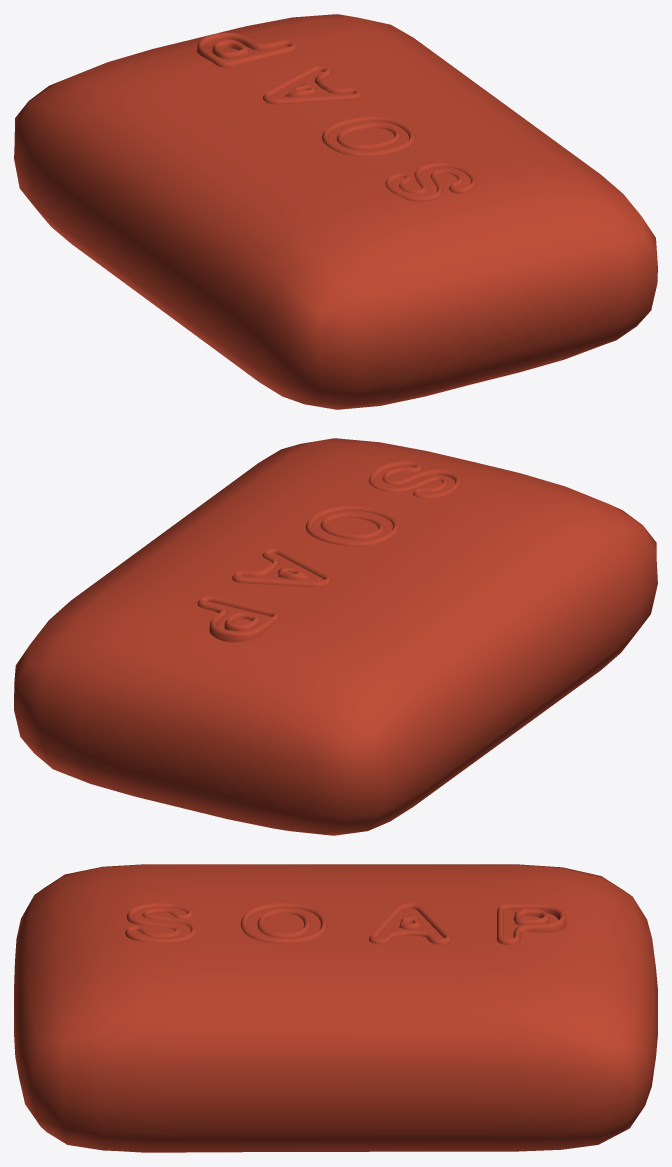
Rendered from Soap_508.obj.
3 views of the same model, one above another, from view 1: azimuth 30°, elevation 25°; view 2: azimuth 150°, elevation 25°; view 3: azimuth 270°, elevation 25° (orthographic).
Visible parts, largest first — view 1: Box001; view 2: Box001; view 3: Box001.
Boxes of the visible parts, <box> form: Box001: <box>14,14,657,409</box>; Box001: <box>14,438,657,835</box>; Box001: <box>14,864,657,1152</box>.
Size of the model in its own units: 29.7 by 13.54 by 43.53.
